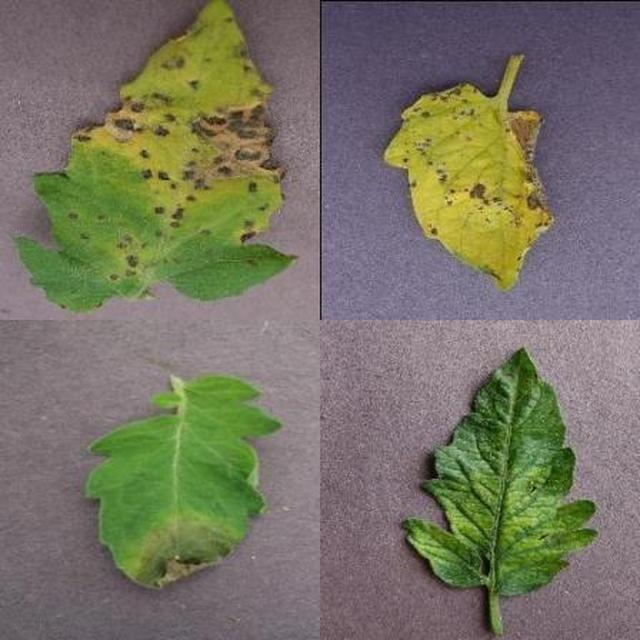Septoria Leaf: (226, 223, 640, 640)
